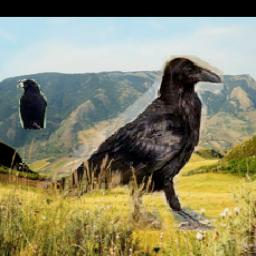Crow: (36, 56, 222, 232), (16, 79, 46, 129)
